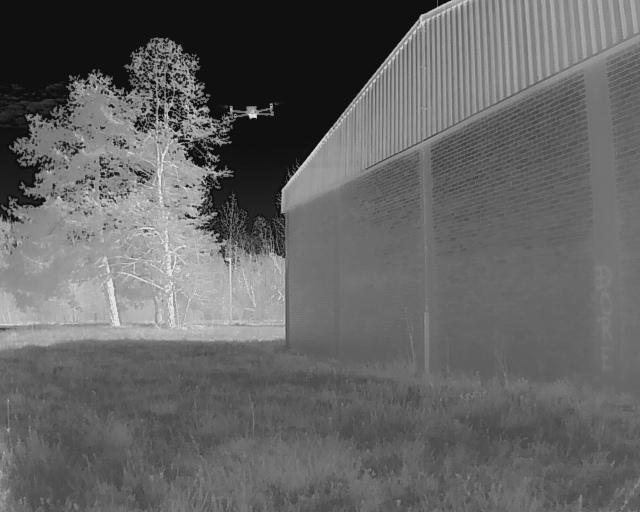drone: (220, 94, 285, 129)
